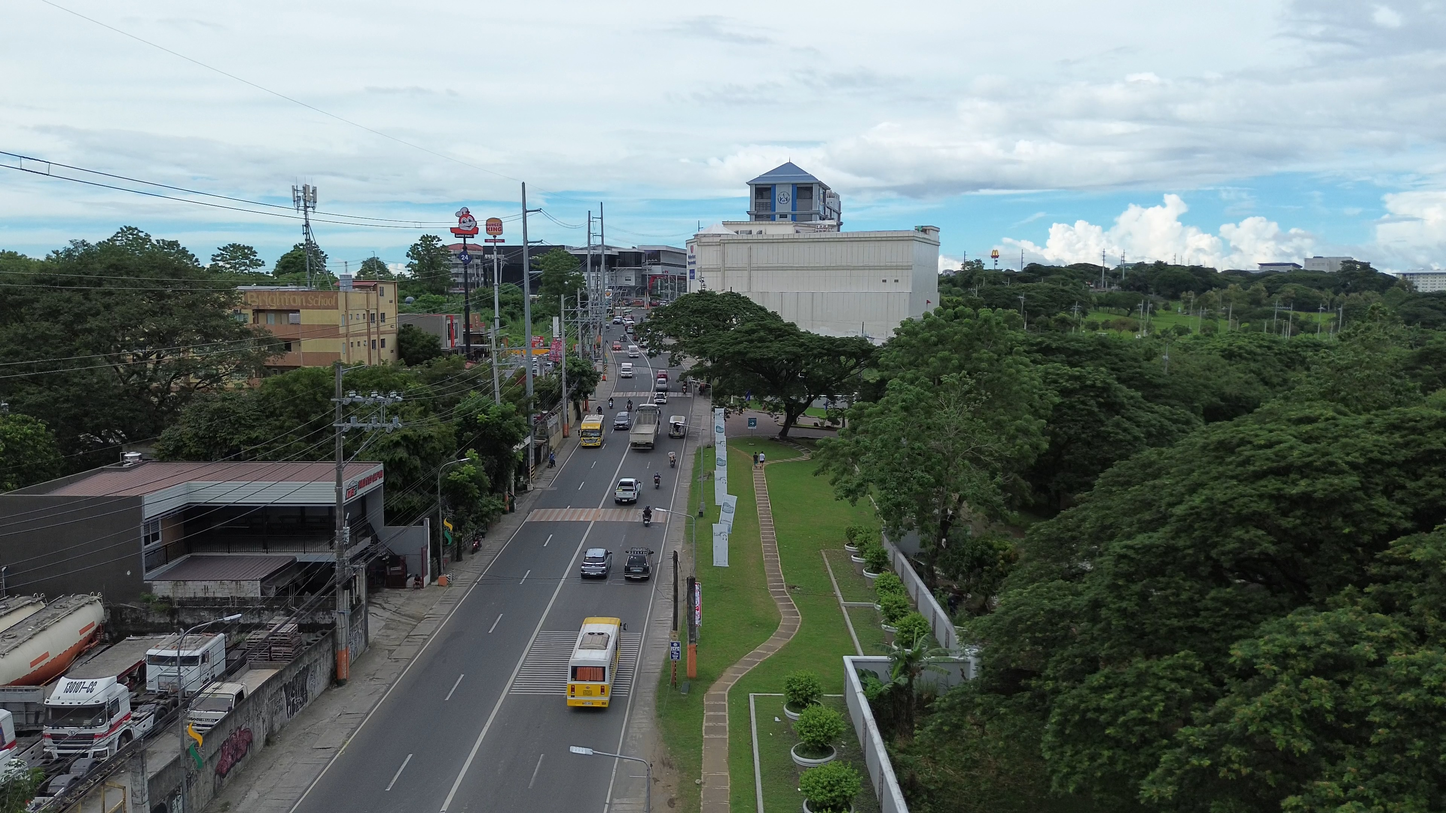bus: (567, 617, 621, 707)
car: (653, 391, 668, 406), (612, 341, 622, 351), (612, 316, 622, 324)
motorcycle: (642, 506, 651, 527), (669, 452, 676, 467), (654, 473, 660, 488)
truck: (41, 636, 168, 758), (187, 669, 278, 733)
vehicle: (42, 636, 174, 758), (0, 595, 104, 686), (146, 633, 225, 694), (188, 682, 246, 733), (630, 403, 660, 449), (624, 547, 654, 579), (580, 548, 611, 578), (579, 414, 604, 447), (615, 478, 639, 504), (668, 415, 686, 438), (613, 411, 630, 430), (619, 362, 634, 378), (653, 391, 667, 405), (654, 378, 669, 391), (627, 344, 640, 358), (656, 370, 670, 380)
